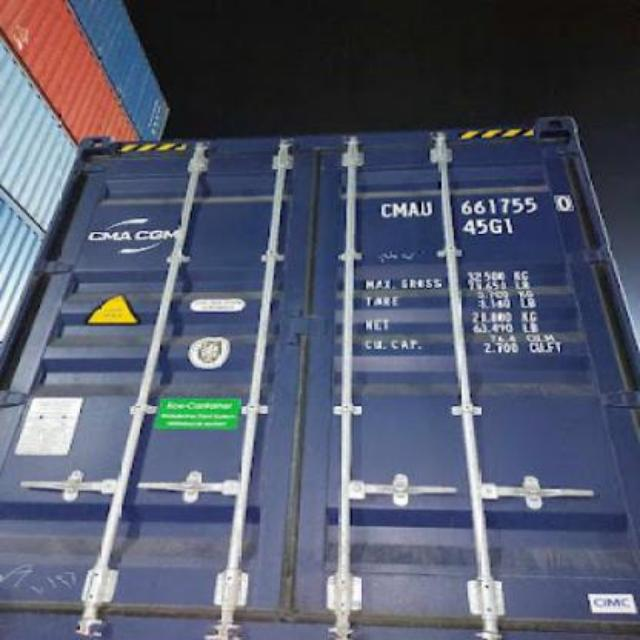0: (552, 189, 576, 215)
1: (486, 194, 498, 216)
5: (510, 188, 522, 216), (522, 194, 536, 216)
6: (460, 194, 472, 216), (474, 194, 486, 216)
7: (496, 194, 512, 216)
A: (406, 200, 419, 220)
C: (376, 200, 392, 220)
M: (392, 200, 408, 220)
U: (418, 199, 434, 219)
